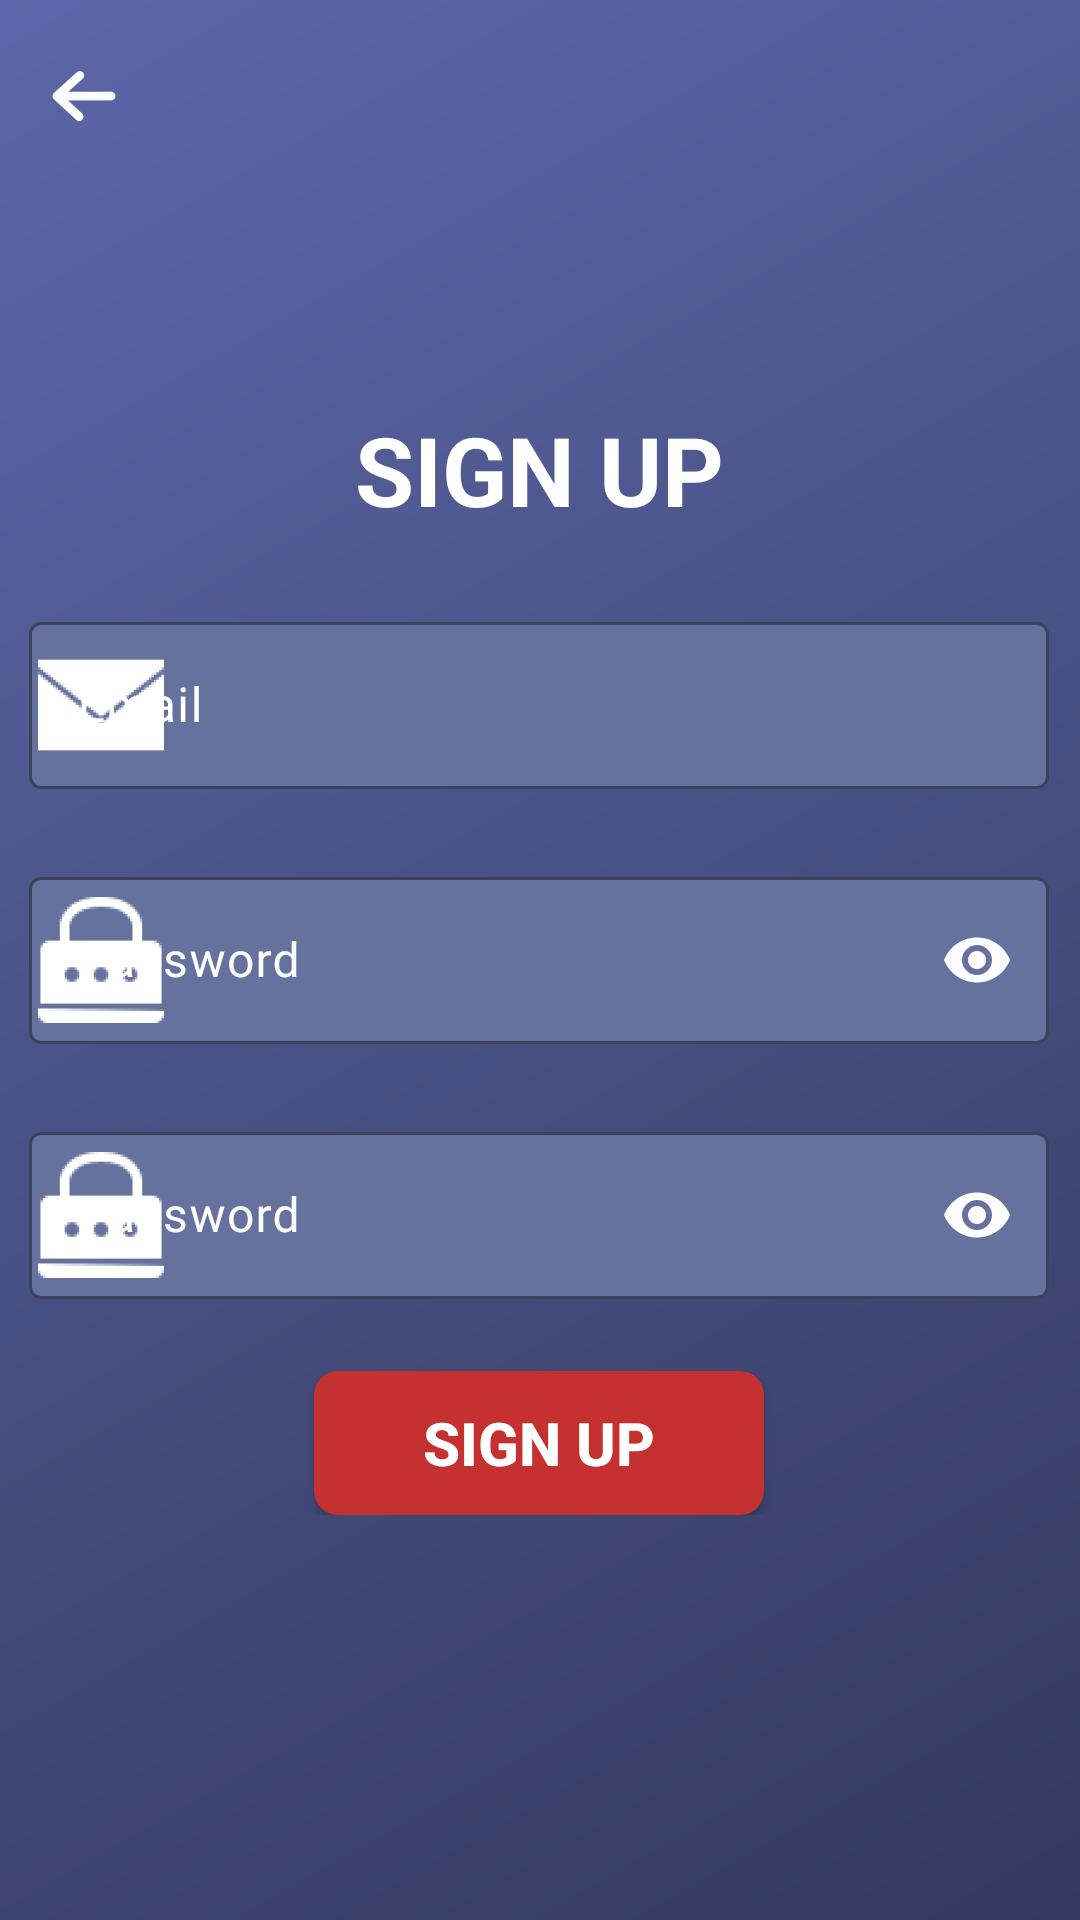

Named icons in this screenshot (1080px x 1920px) and their bounding boxes, (x1, y1, x2, y2):
back: (52, 71, 116, 121)
